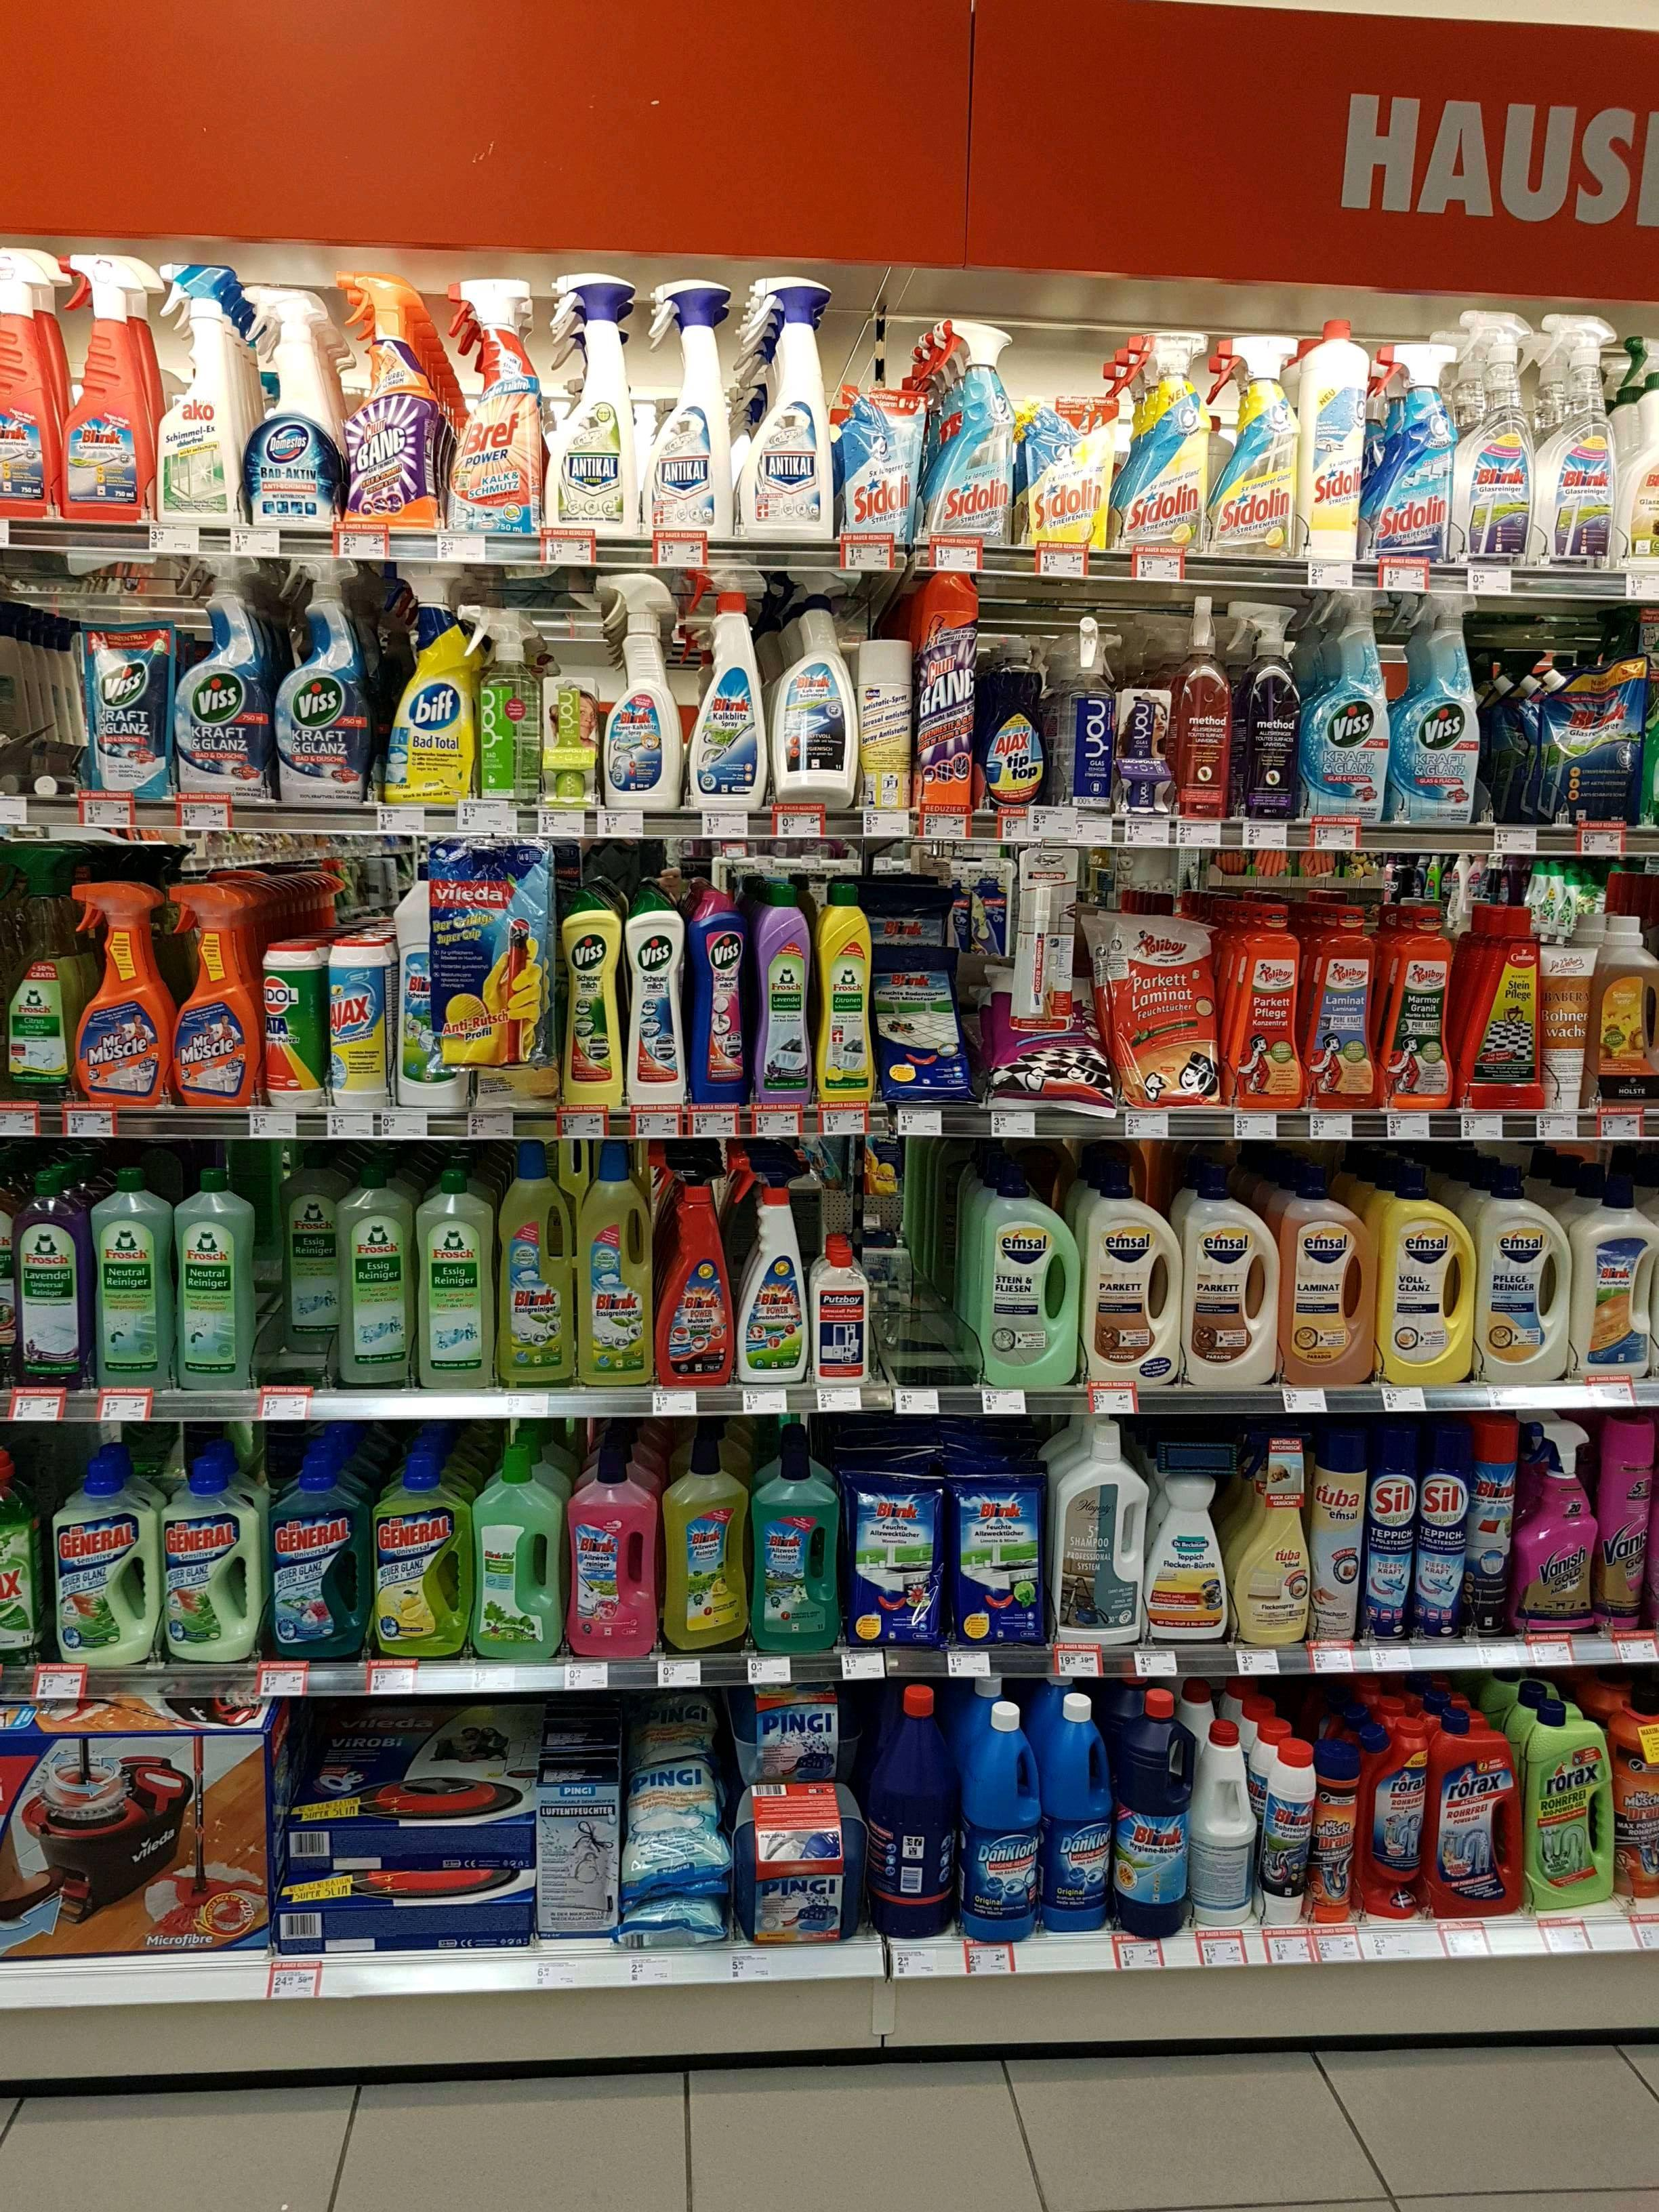misalignment: (986, 956, 1117, 1097), (0, 719, 87, 798)
